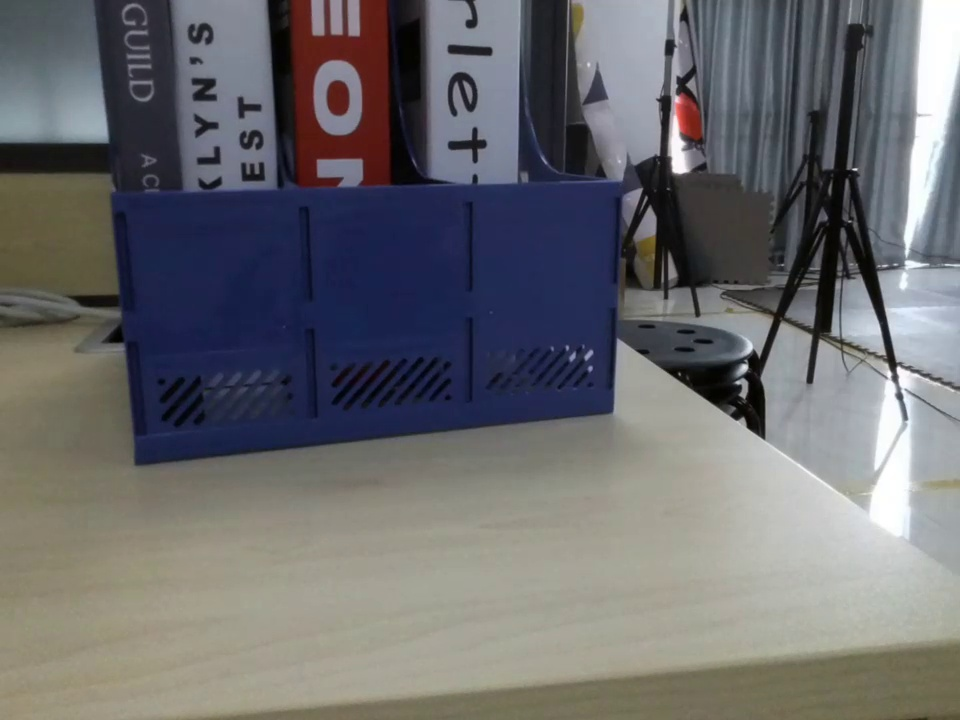files: (92, 1, 625, 472)
